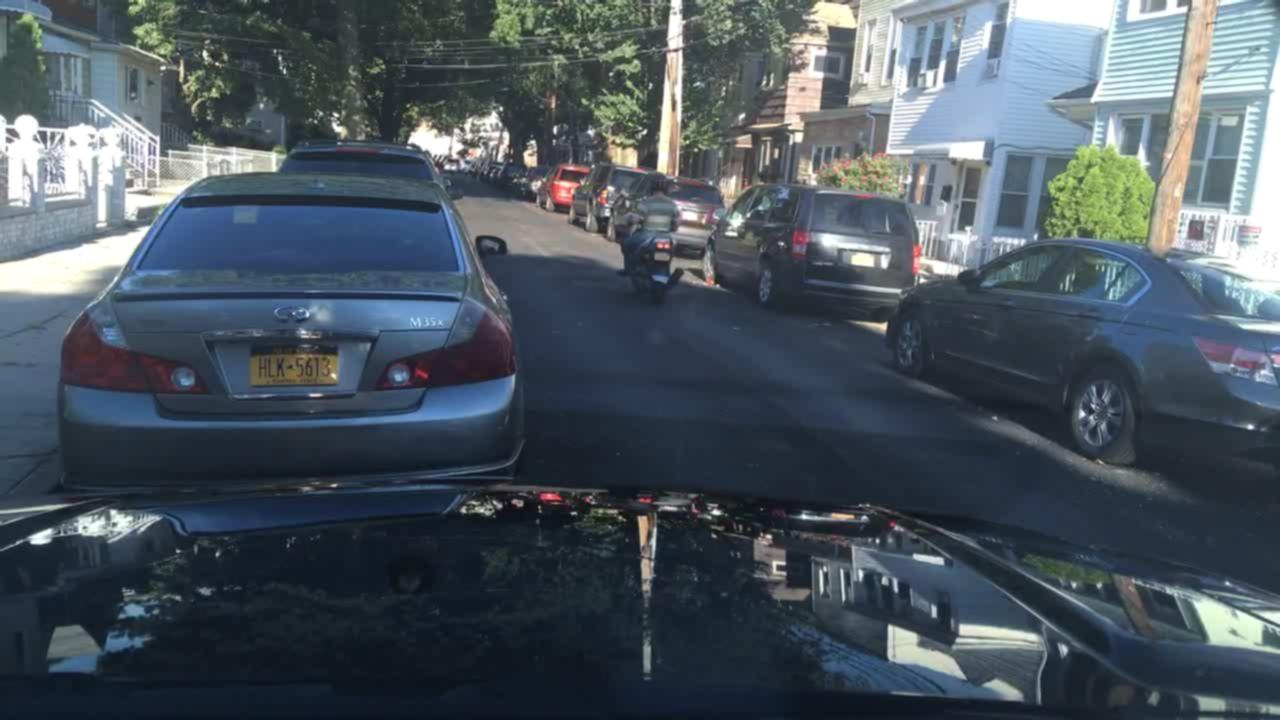Infiniti: (268, 301, 316, 329)
